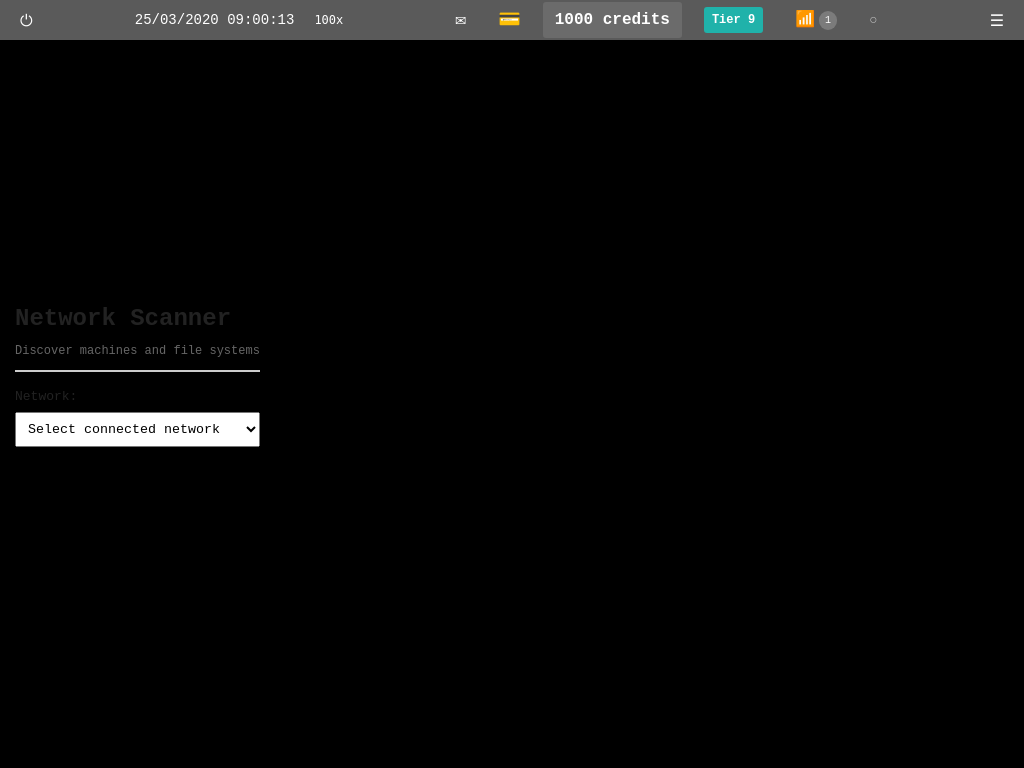
Scenario: Network Scanner Integration › should map file systems to discovered devices
Check: the text titled "Click to open Banking App" shows "credits", box x1=593 y1=11 x2=670 y2=29
// Perform scan
Select "Corporate Network" in the dropdown labelled "Network:" at (137, 429), box x1=15 y1=412 x2=260 y2=447
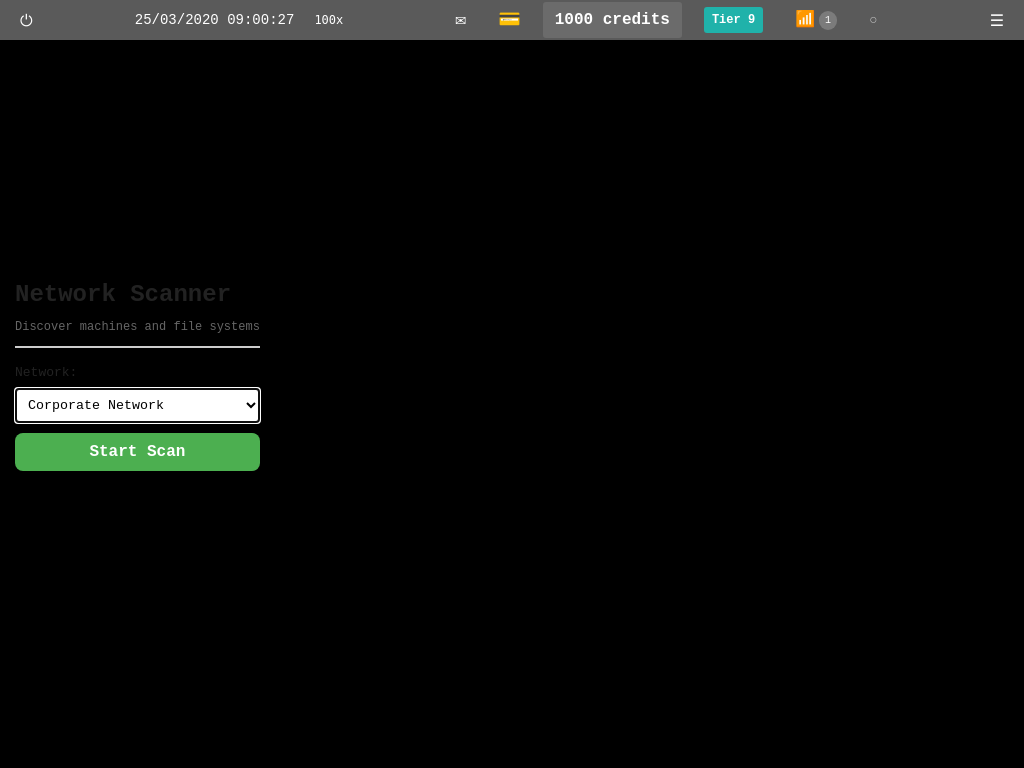
Click the button "Start Scan" at (137, 452), box x1=15 y1=433 x2=260 y2=471
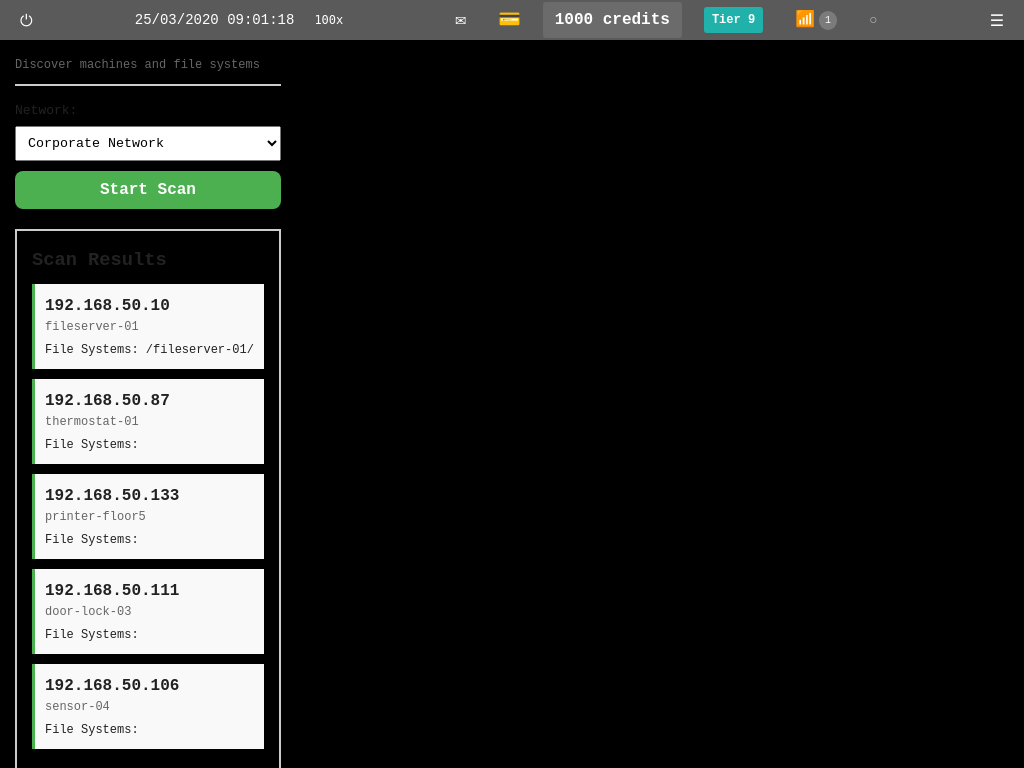
Check: the heading "Scan Results" is shown, box x1=32 y1=248 x2=167 y2=270
Check: the text "fileserver-01" is shown, box x1=45 y1=320 x2=139 y2=334
Check: the text with class "machine-filesystems" shows "File Systems:", box x1=45 y1=343 x2=146 y2=357
